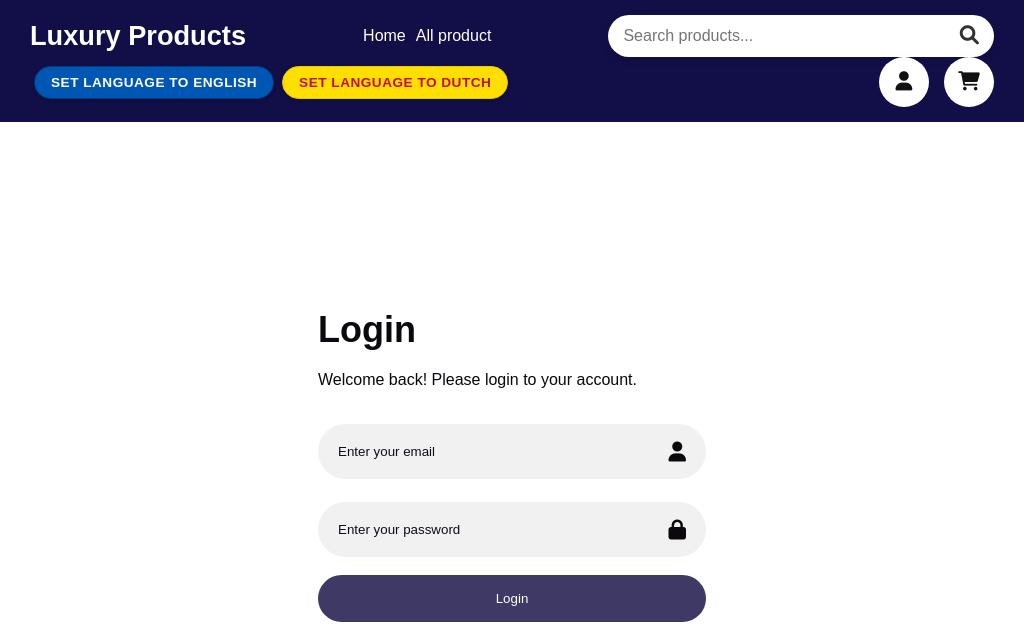
Login tests › shows error message on invalid credentials
Type "jan@email.com" into the field with id "email" at point(512, 452), box 318,424 -> 706,479
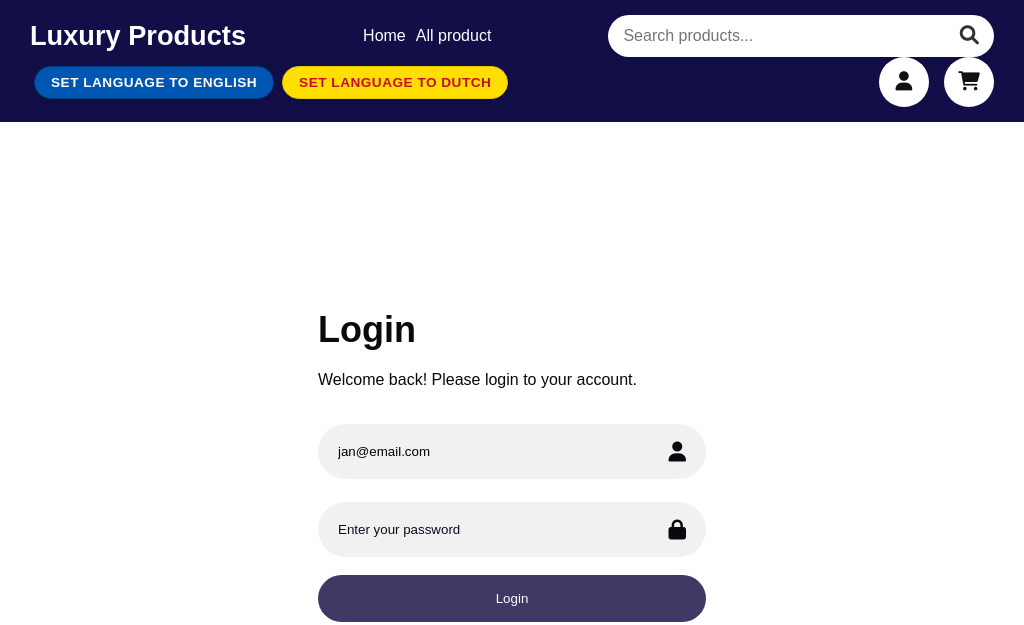
Type "WrongPassword!" into the password field with placeholder "Enter your password" at point(512, 530), box 318,502 -> 706,557
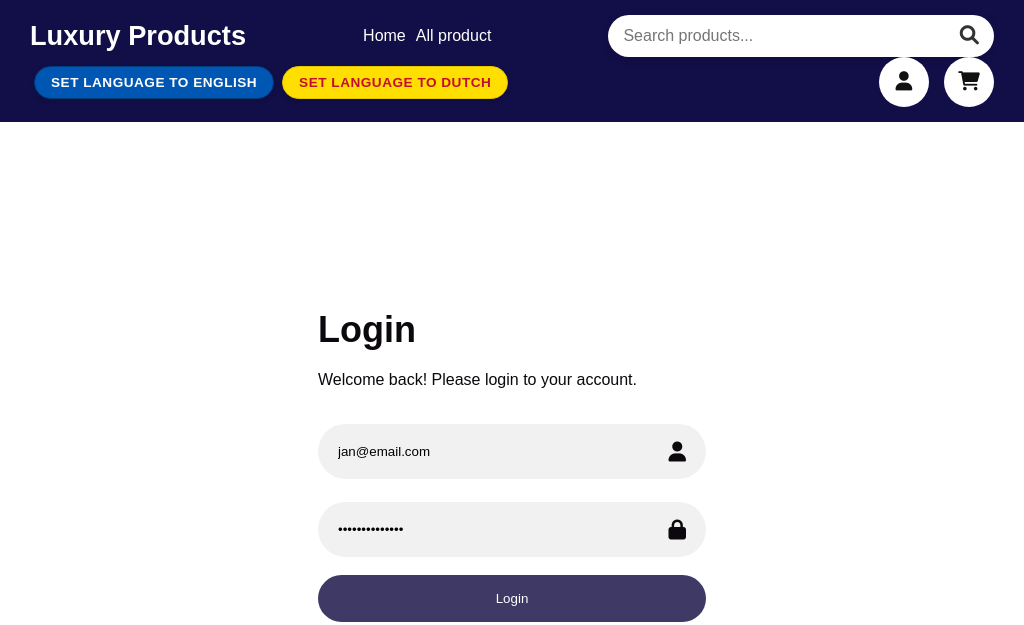
Click the button with id "button-login" at point(512, 599), box 318,575 -> 706,622
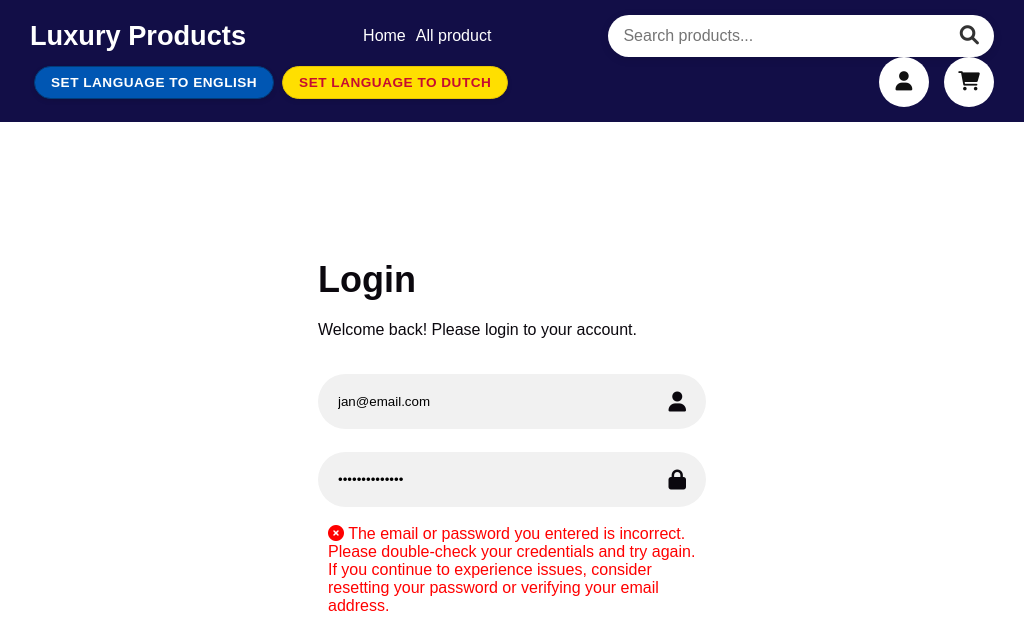
Check: the element with class "invalid-password-text" shows "incorrect", box 328,525 -> 696,615
